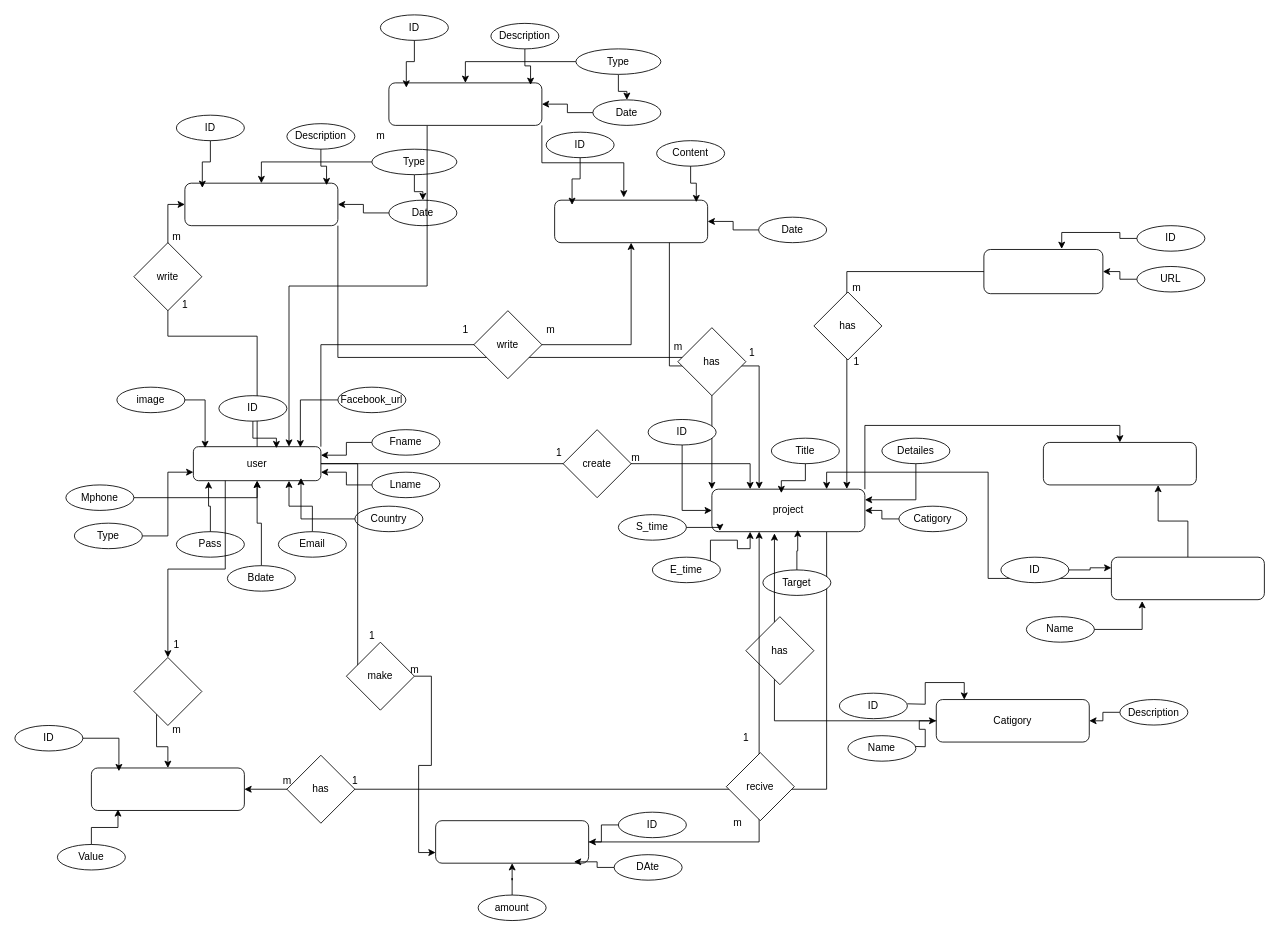
This 1279x936 diagram has some shape labels left out. Here are the shapes that lost their labels. From the top down, the centre of each, then its label:
At point 465,103: "comment_report".
At point 261,204: "project_report".
At point 631,221: "Comments".
At point 1043,271: "Project_image".
At point 1119,463: "Project_Tag".
At point 1187,578: "Tag".
At point 167,691: "evaluate".
At point 167,788: "Rate".
At point 512,841: "Donations".
